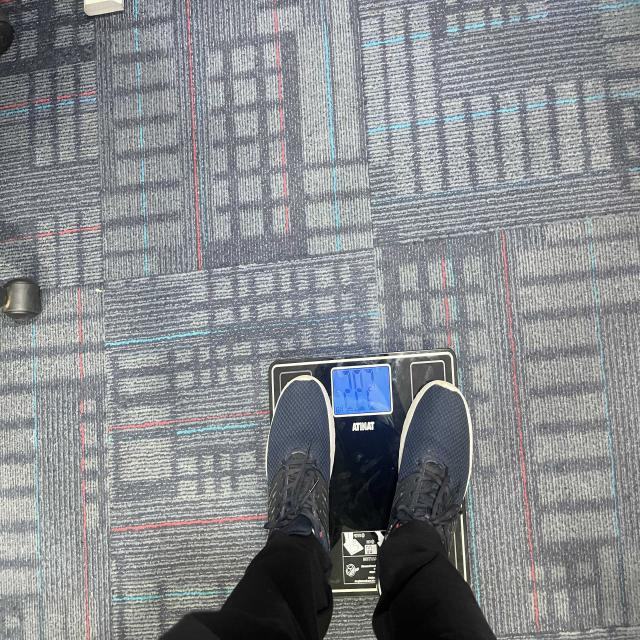ws: (270, 353, 468, 544)
